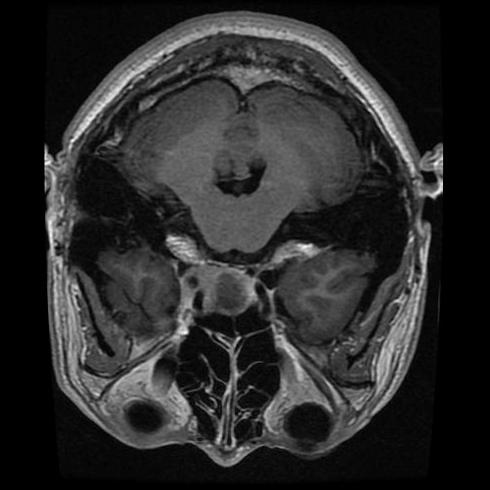Tumour-Pituitary: (180, 257, 277, 321)
